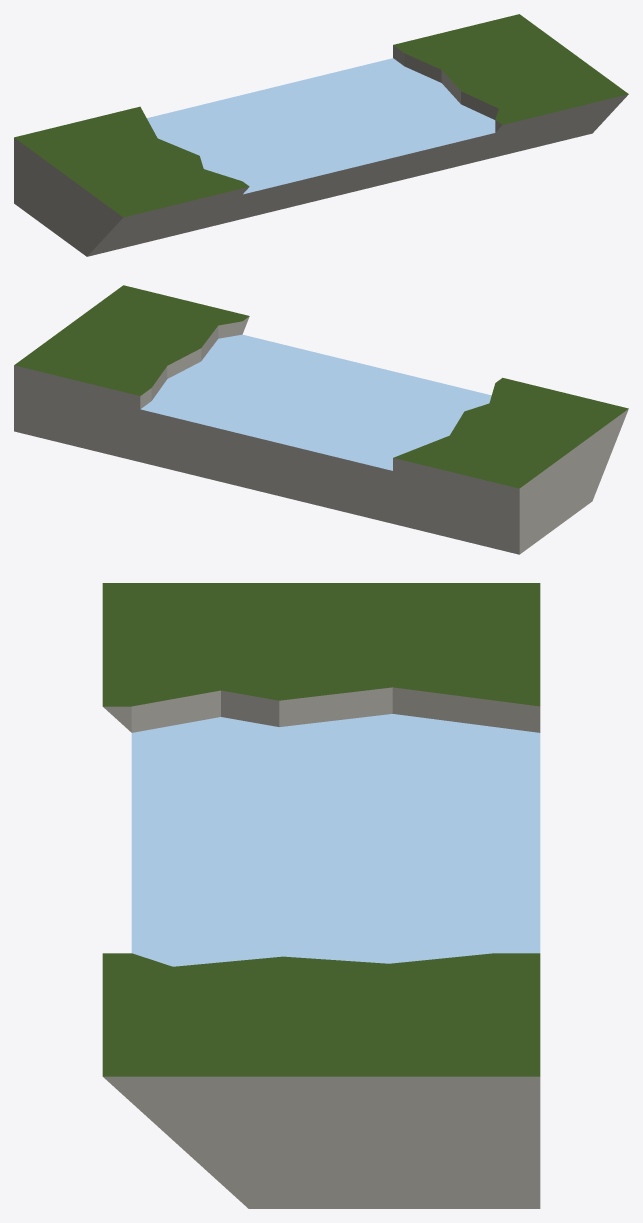
File: Terrain_Tile_Grass_Rock_Ledge_River_03.fbx
3 views of the same model, one above another, from view 1: azimuth 30°, elevation 25°; view 2: azimuth 150°, elevation 25°; view 3: azimuth 270°, elevation 25° (orthographic). The views are drawn at different scales.
Parts seen in each view (by area): view 1: Model; view 2: Model; view 3: Model.
Boxes of the visible parts, box(x1,y1,x2,y2) form: Model: box(14, 14, 628, 256); Model: box(14, 285, 628, 554); Model: box(102, 583, 540, 1208).
Bounding box in the file's own units: 2000 × 250 × 750.
